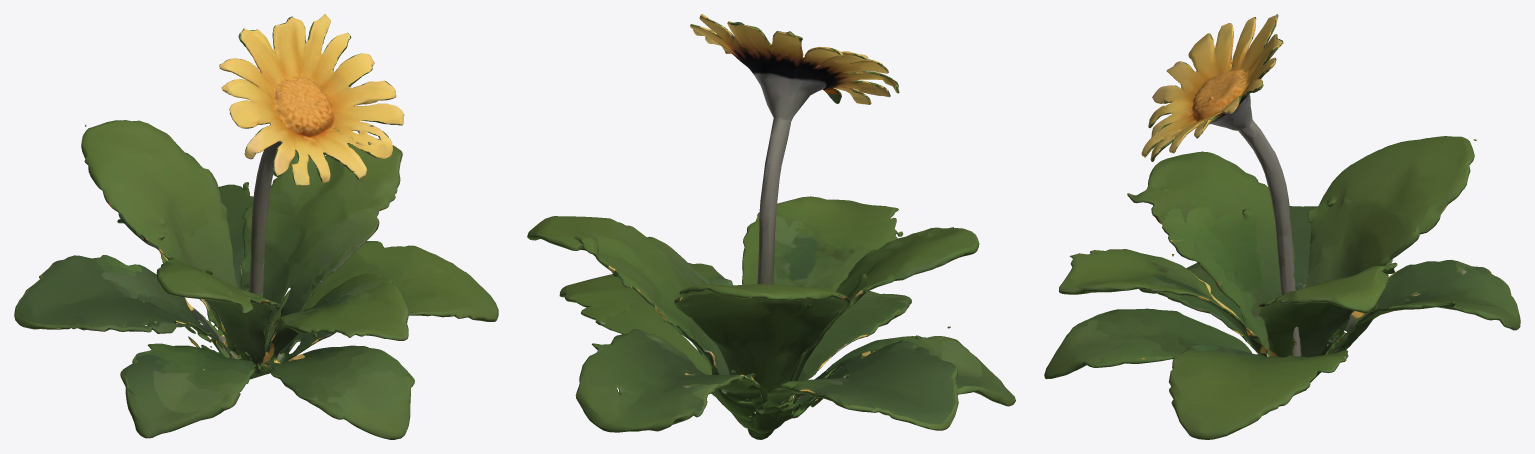
Rendered from arnica.glb.
3 renders of one model, left to right at view 1: azimuth 30°, elevation 25°; view 2: azimuth 150°, elevation 25°; view 3: azimuth 270°, elevation 25°, orthographic. The views are drawn at different scales.
Visible parts, largest first — view 1: world; view 2: world; view 3: world.
Part boxes in pixels (x1,y1,x2,y2): world: [14, 14, 498, 439]; world: [527, 14, 1015, 439]; world: [1044, 14, 1520, 439].
Bounding box in the file's own units: 1.99 × 1.69 × 1.99.
Materials: 1 (1 with a texture image).
